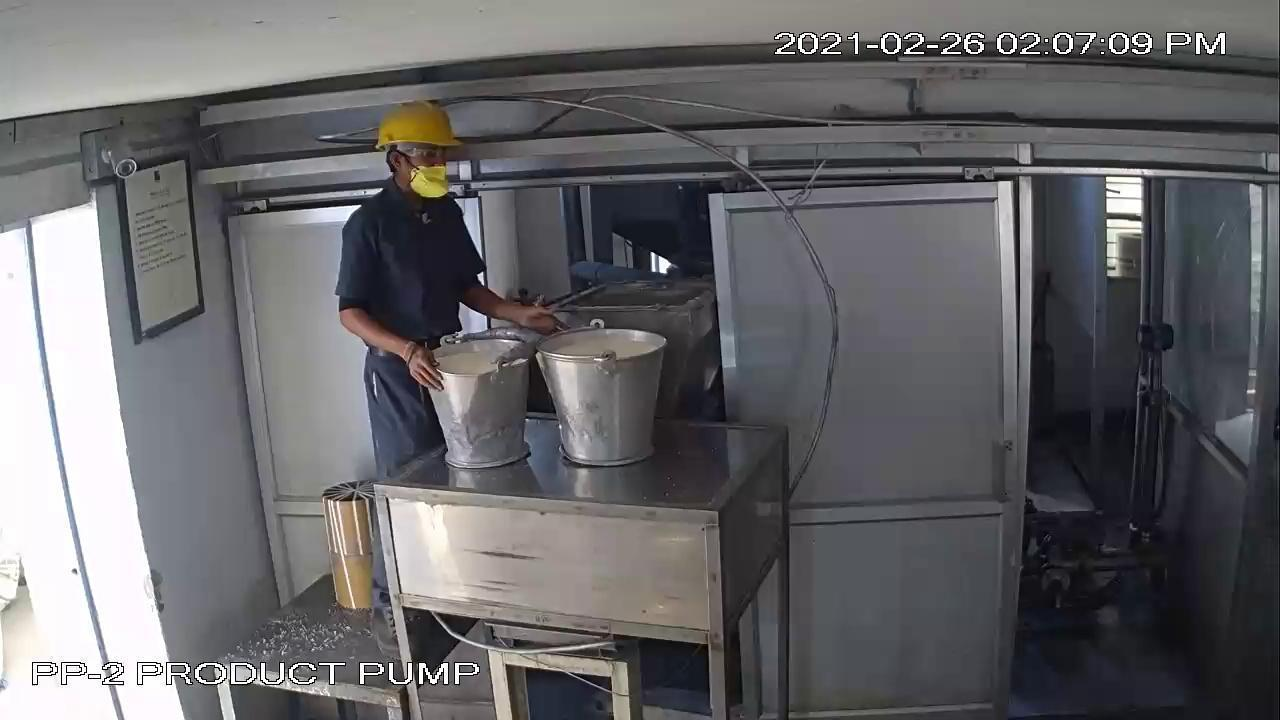helmet: (367, 96, 475, 156)
